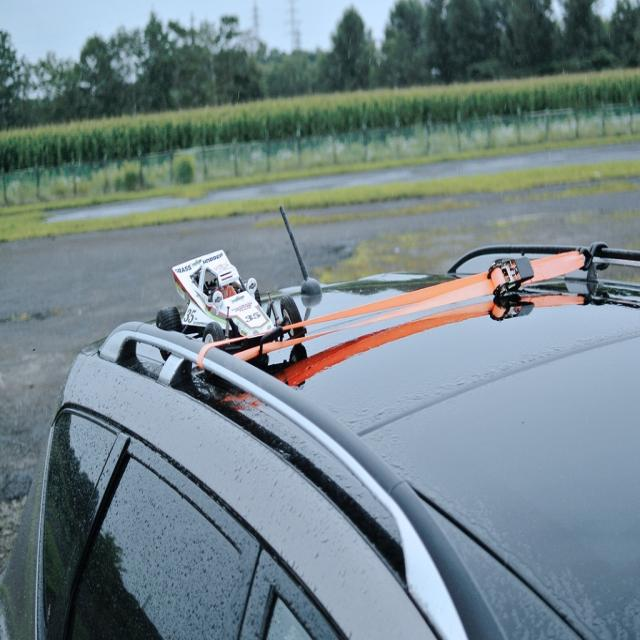car: (0, 206, 639, 638)
